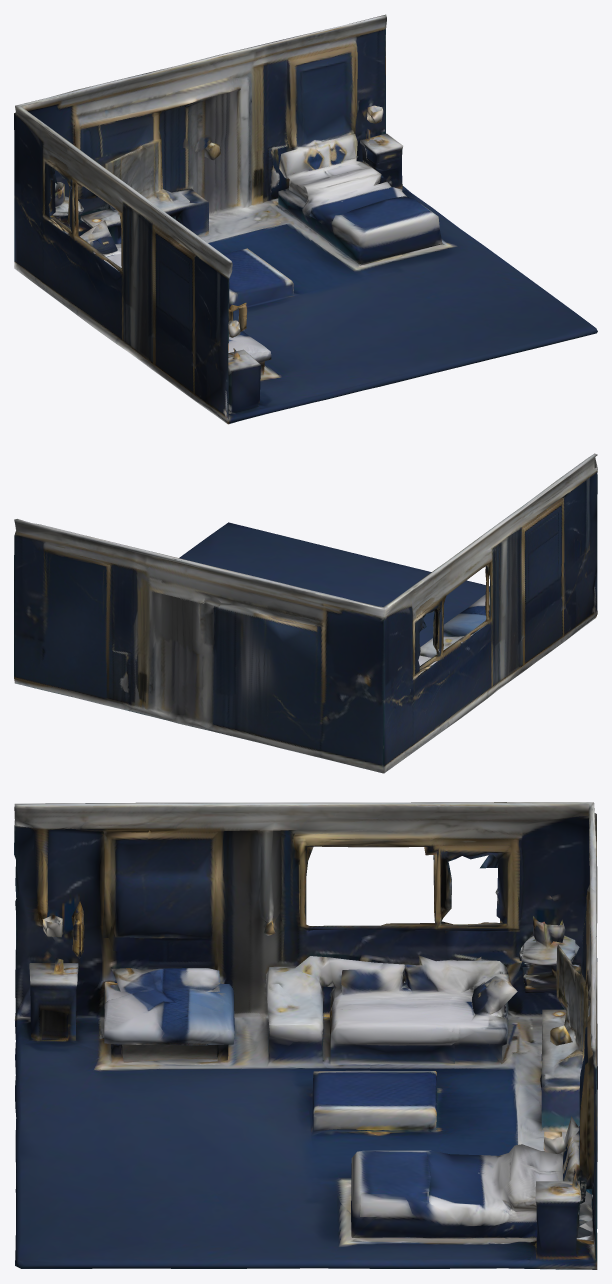
Rendered from deluxe2bed.glb.
The picture shows the model from 3 angles, top to bottom: view 1: azimuth 30°, elevation 25°; view 2: azimuth 150°, elevation 25°; view 3: azimuth 270°, elevation 25°; orthographic projection. The views are drawn at different scales.
Size of the model in its own units: 2 by 0.8448 by 2.
Materials: 1 (1 with a texture image).
